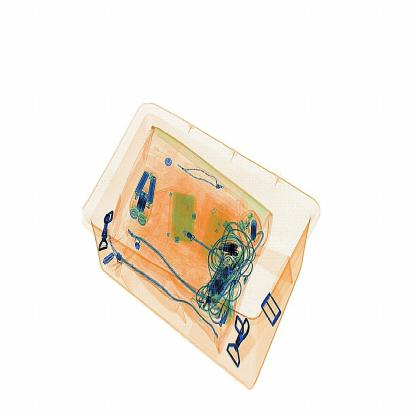scissors: (225, 236, 245, 264)
